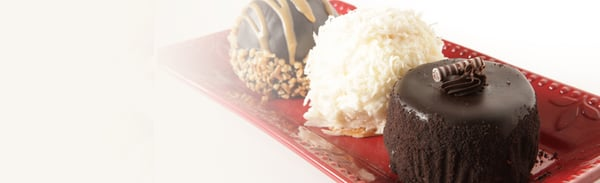salad: (228, 1, 357, 100)
sushi: (383, 57, 541, 180), (301, 8, 446, 138)
